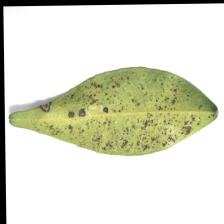canker: (31, 76, 199, 154)
